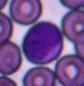M: (22, 21, 63, 64)
